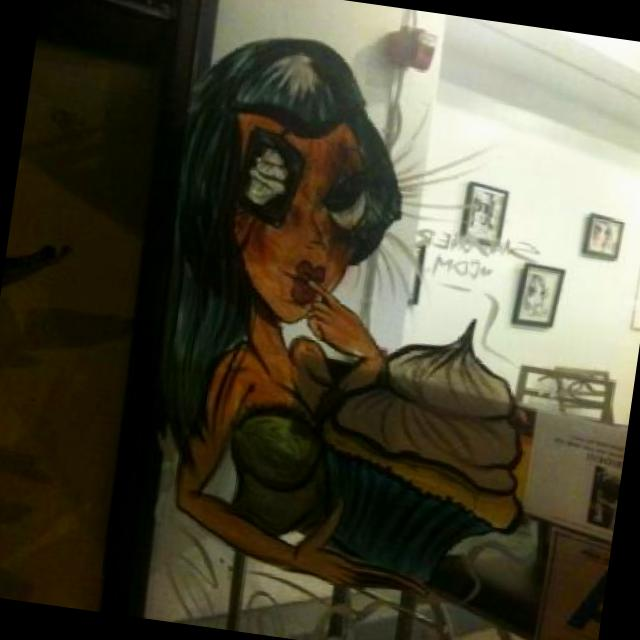Person: (116, 23, 615, 640)
